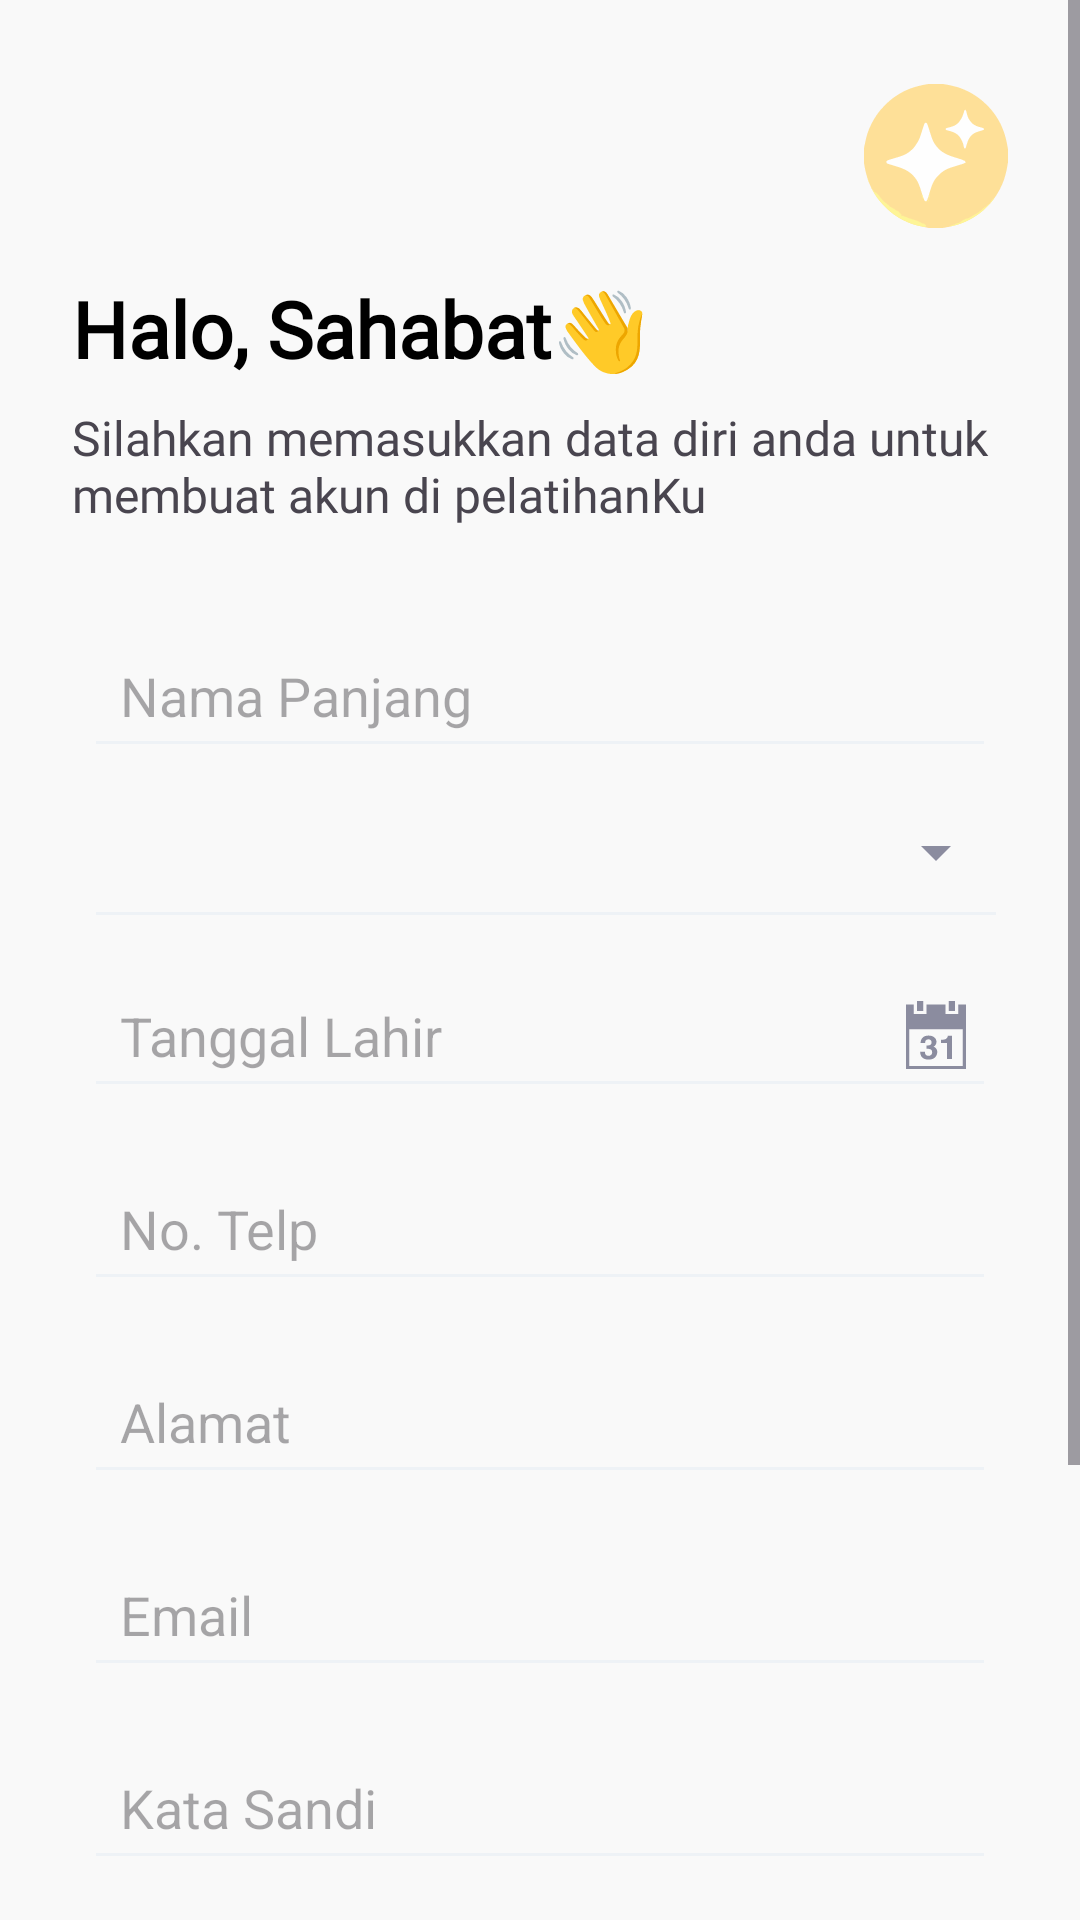

Point at icon controls on the screen. Image size 1080px x 1920px, points as (x=x, y=y).
Pilih Tanggal: (x=936, y=1035)
